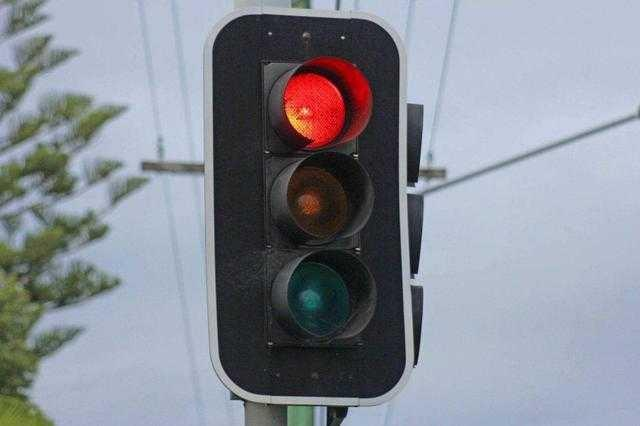red: (215, 11, 406, 402), (268, 63, 369, 150)
